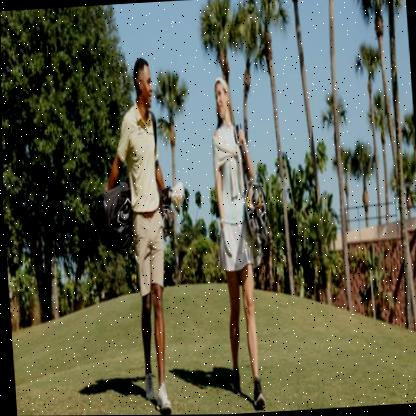person: (83, 47, 203, 415), (197, 69, 281, 413)
